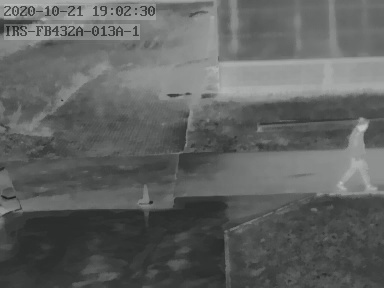person: (336, 117, 378, 191)
